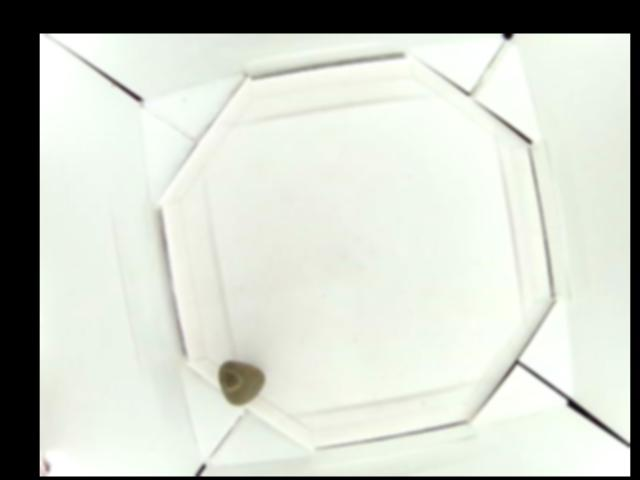Pebble: (219, 359, 261, 404)
